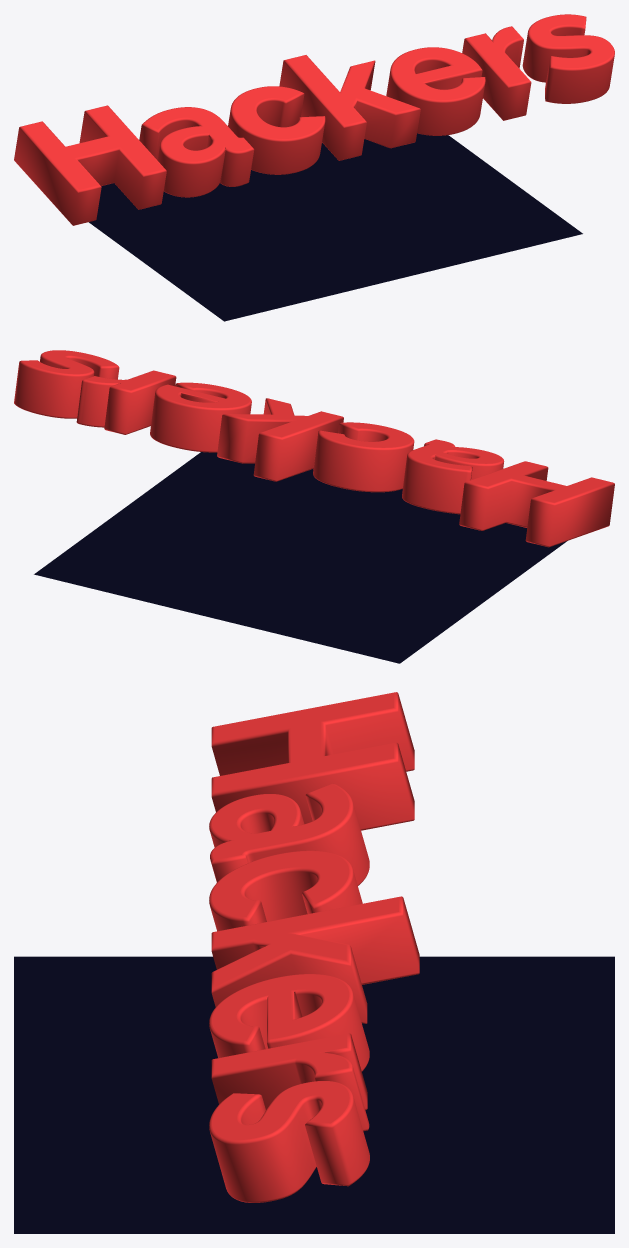
Rendered from hackers12.obj.
3 views of the same model, one above another, from view 1: azimuth 30°, elevation 25°; view 2: azimuth 150°, elevation 25°; view 3: azimuth 270°, elevation 25° (orthographic). The views are drawn at different scales.
Visible parts, largest first — view 1: Plane, Hackers; view 2: Plane, Hackers; view 3: Plane, Hackers.
Boxes of the visible parts, <box> form: Plane: <box>89,133,582,321</box>; Hackers: <box>14,14,614,225</box>; Plane: <box>34,452,566,663</box>; Hackers: <box>14,350,614,547</box>; Plane: <box>14,956,614,1233</box>; Hackers: <box>209,692,419,1202</box>.
Size of the model in its own units: 2.89 by 0.6434 by 1.74.
